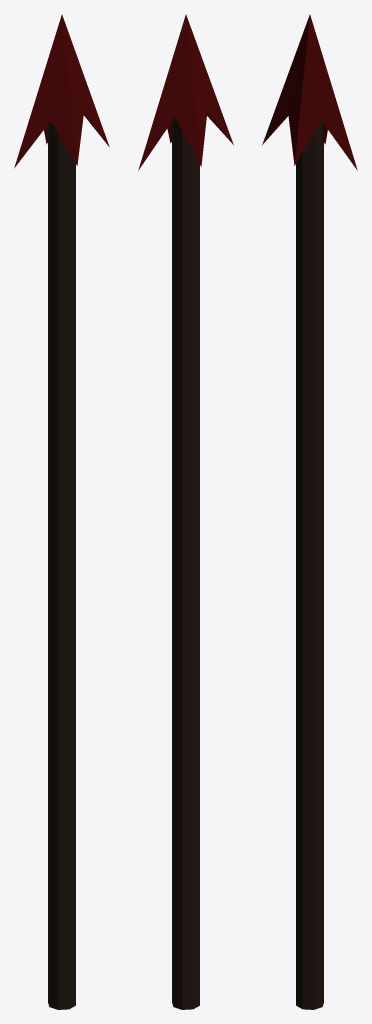
File: lanca.fbx
The picture shows the model from 3 angles, left to right: view 1: azimuth 30°, elevation 25°; view 2: azimuth 210°, elevation 25°; view 3: azimuth 330°, elevation 25°; orthographic projection.
Visible parts, largest first — view 1: Cylinder, Cylinder.001; view 2: Cylinder, Cylinder.001; view 3: Cylinder, Cylinder.001.
Boxes of the visible parts, x1,y1,x2,y2 form: Cylinder: [48, 121, 75, 1009]; Cylinder.001: [14, 14, 109, 168]; Cylinder: [172, 117, 199, 1009]; Cylinder.001: [138, 14, 233, 170]; Cylinder: [296, 120, 323, 1009]; Cylinder.001: [262, 14, 357, 170].
Size of the model in its own units: 72.42 by 714 by 40.37.
